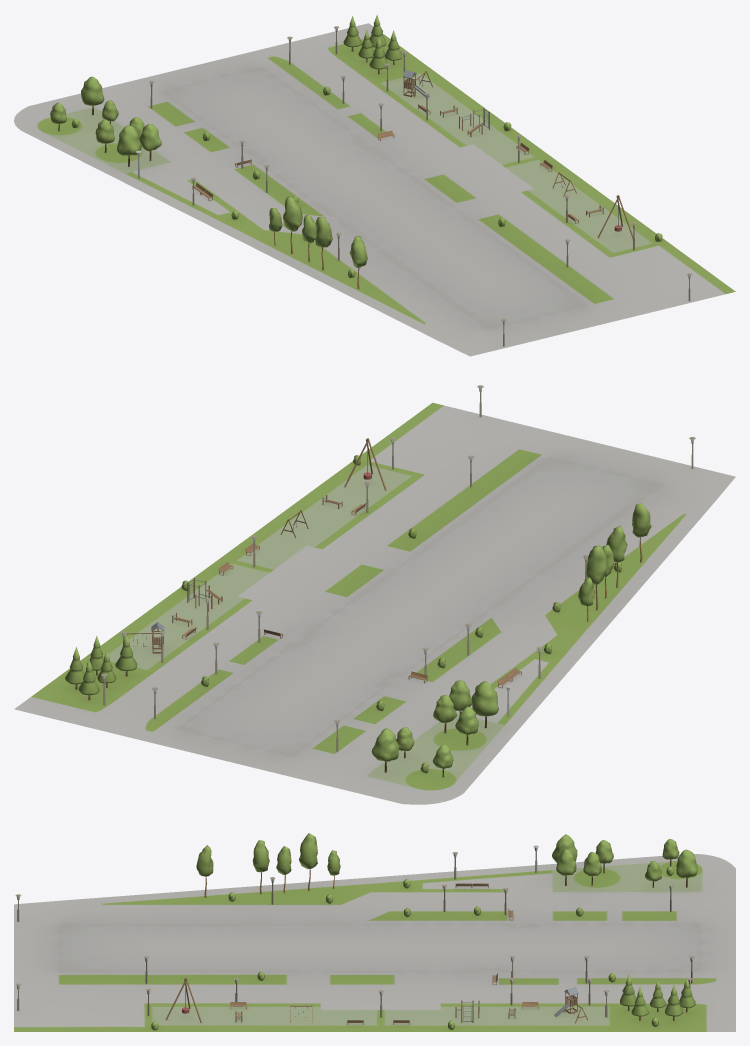
File: House_Low_Env.glb
The picture shows the model from 3 angles, top to bottom: view 1: azimuth 30°, elevation 25°; view 2: azimuth 150°, elevation 25°; view 3: azimuth 270°, elevation 25°; orthographic projection. The views are drawn at different scales.
Parts seen in each view (by area): view 1: Empty.009; view 2: Empty.009; view 3: Empty.009.
Boxes of the visible parts, x1,y1,x2,y2 form: Empty.009: (14,14,735,356); Empty.009: (14,385,735,804); Empty.009: (14,833,735,1031).
Size of the model in its own units: 57.16 by 9.33 by 97.88.
1 material, 1 textured.
